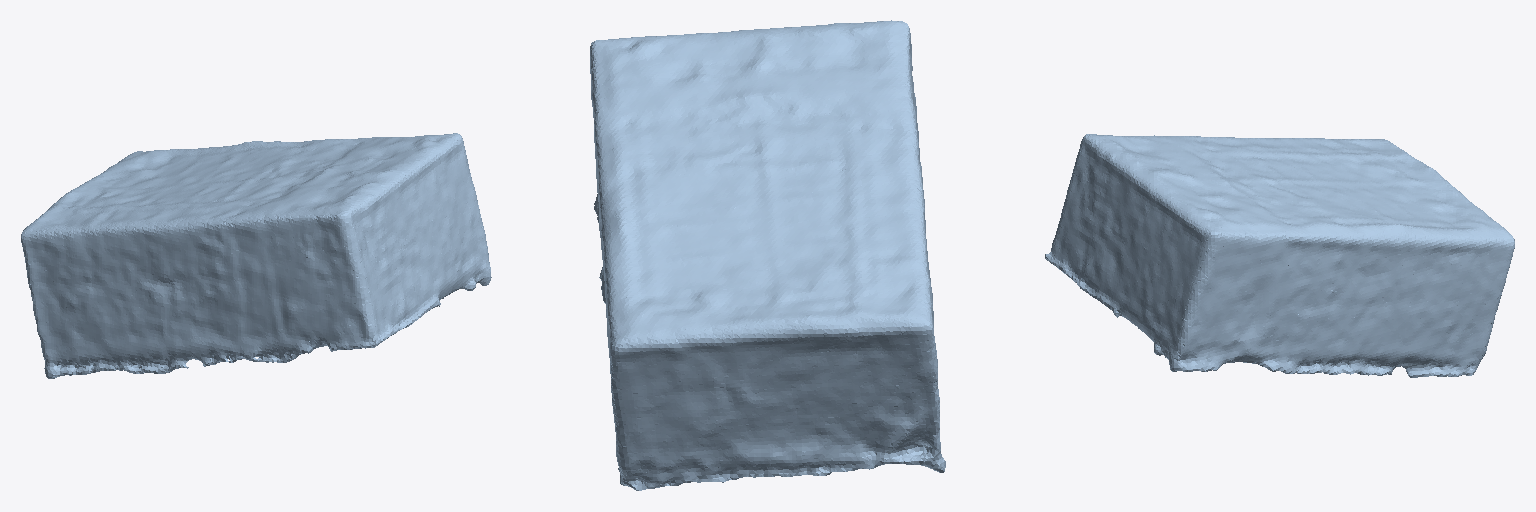
robot.urdf — smallbox:
<?xml version="1.0" ?>
<robot name="smallbox">
  <dynamics damping="0.5" friction="0.9"/>
  <link name="smallbox_link">
    <inertial>
      <mass value="0.1"/>
      <origin xyz="0 0 0"/>
      <inertia ixx="0.002" ixy="0" ixz="0" iyy="0.002" iyz="0" izz="0.002"/>
    </inertial>
    <contact>
      <lateral_friction value="0.9"/>
      <rolling_friction value="0.5"/>
      <stiffness value="30000"/>
      <damping value="1000"/>
    </contact>
    <visual>
      <origin rpy="0 0 0" xyz="0 0 0"/>
      <geometry>
        <mesh filename="smallbox.obj" scale="1.0 1.0 1.0"/>
      </geometry>
       <material name="mat">
        <color rgba="0.7 0.8 0.9 0.7"/>
      </material>
    </visual>
    <collision name="smallbox">
      <origin rpy="0 0 0" xyz="0 0 0"/>
      <geometry>
        <mesh filename="smallbox.obj" scale="1.0 1.0 1.0"/>
      </geometry>
    </collision>
  </link>
</robot>

--- What the picture shows (computed from the rendered views, not written in the file) ---
Views: 3 orthographic renders of the robot side by side, from view 1: azimuth 30°, elevation 25°; view 2: azimuth 150°, elevation 25°; view 3: azimuth 270°, elevation 25°.
Model smallbox with 1 links and 0 joints (none), rooted at smallbox_link, posed all joints at 0.
Links seen in each view (by area): view 1: smallbox_link; view 2: smallbox_link; view 3: smallbox_link.
Link boxes in pixels (x1,y1,x2,y2): smallbox_link: (21,133,491,378); smallbox_link: (590,20,945,490); smallbox_link: (1045,134,1514,377).
Bounding box of the posed robot: 0.3865 × 0.4376 × 0.2363 m (x, y, z).
1 mesh visuals loaded from 1 distinct referenced files (1 OBJ).
